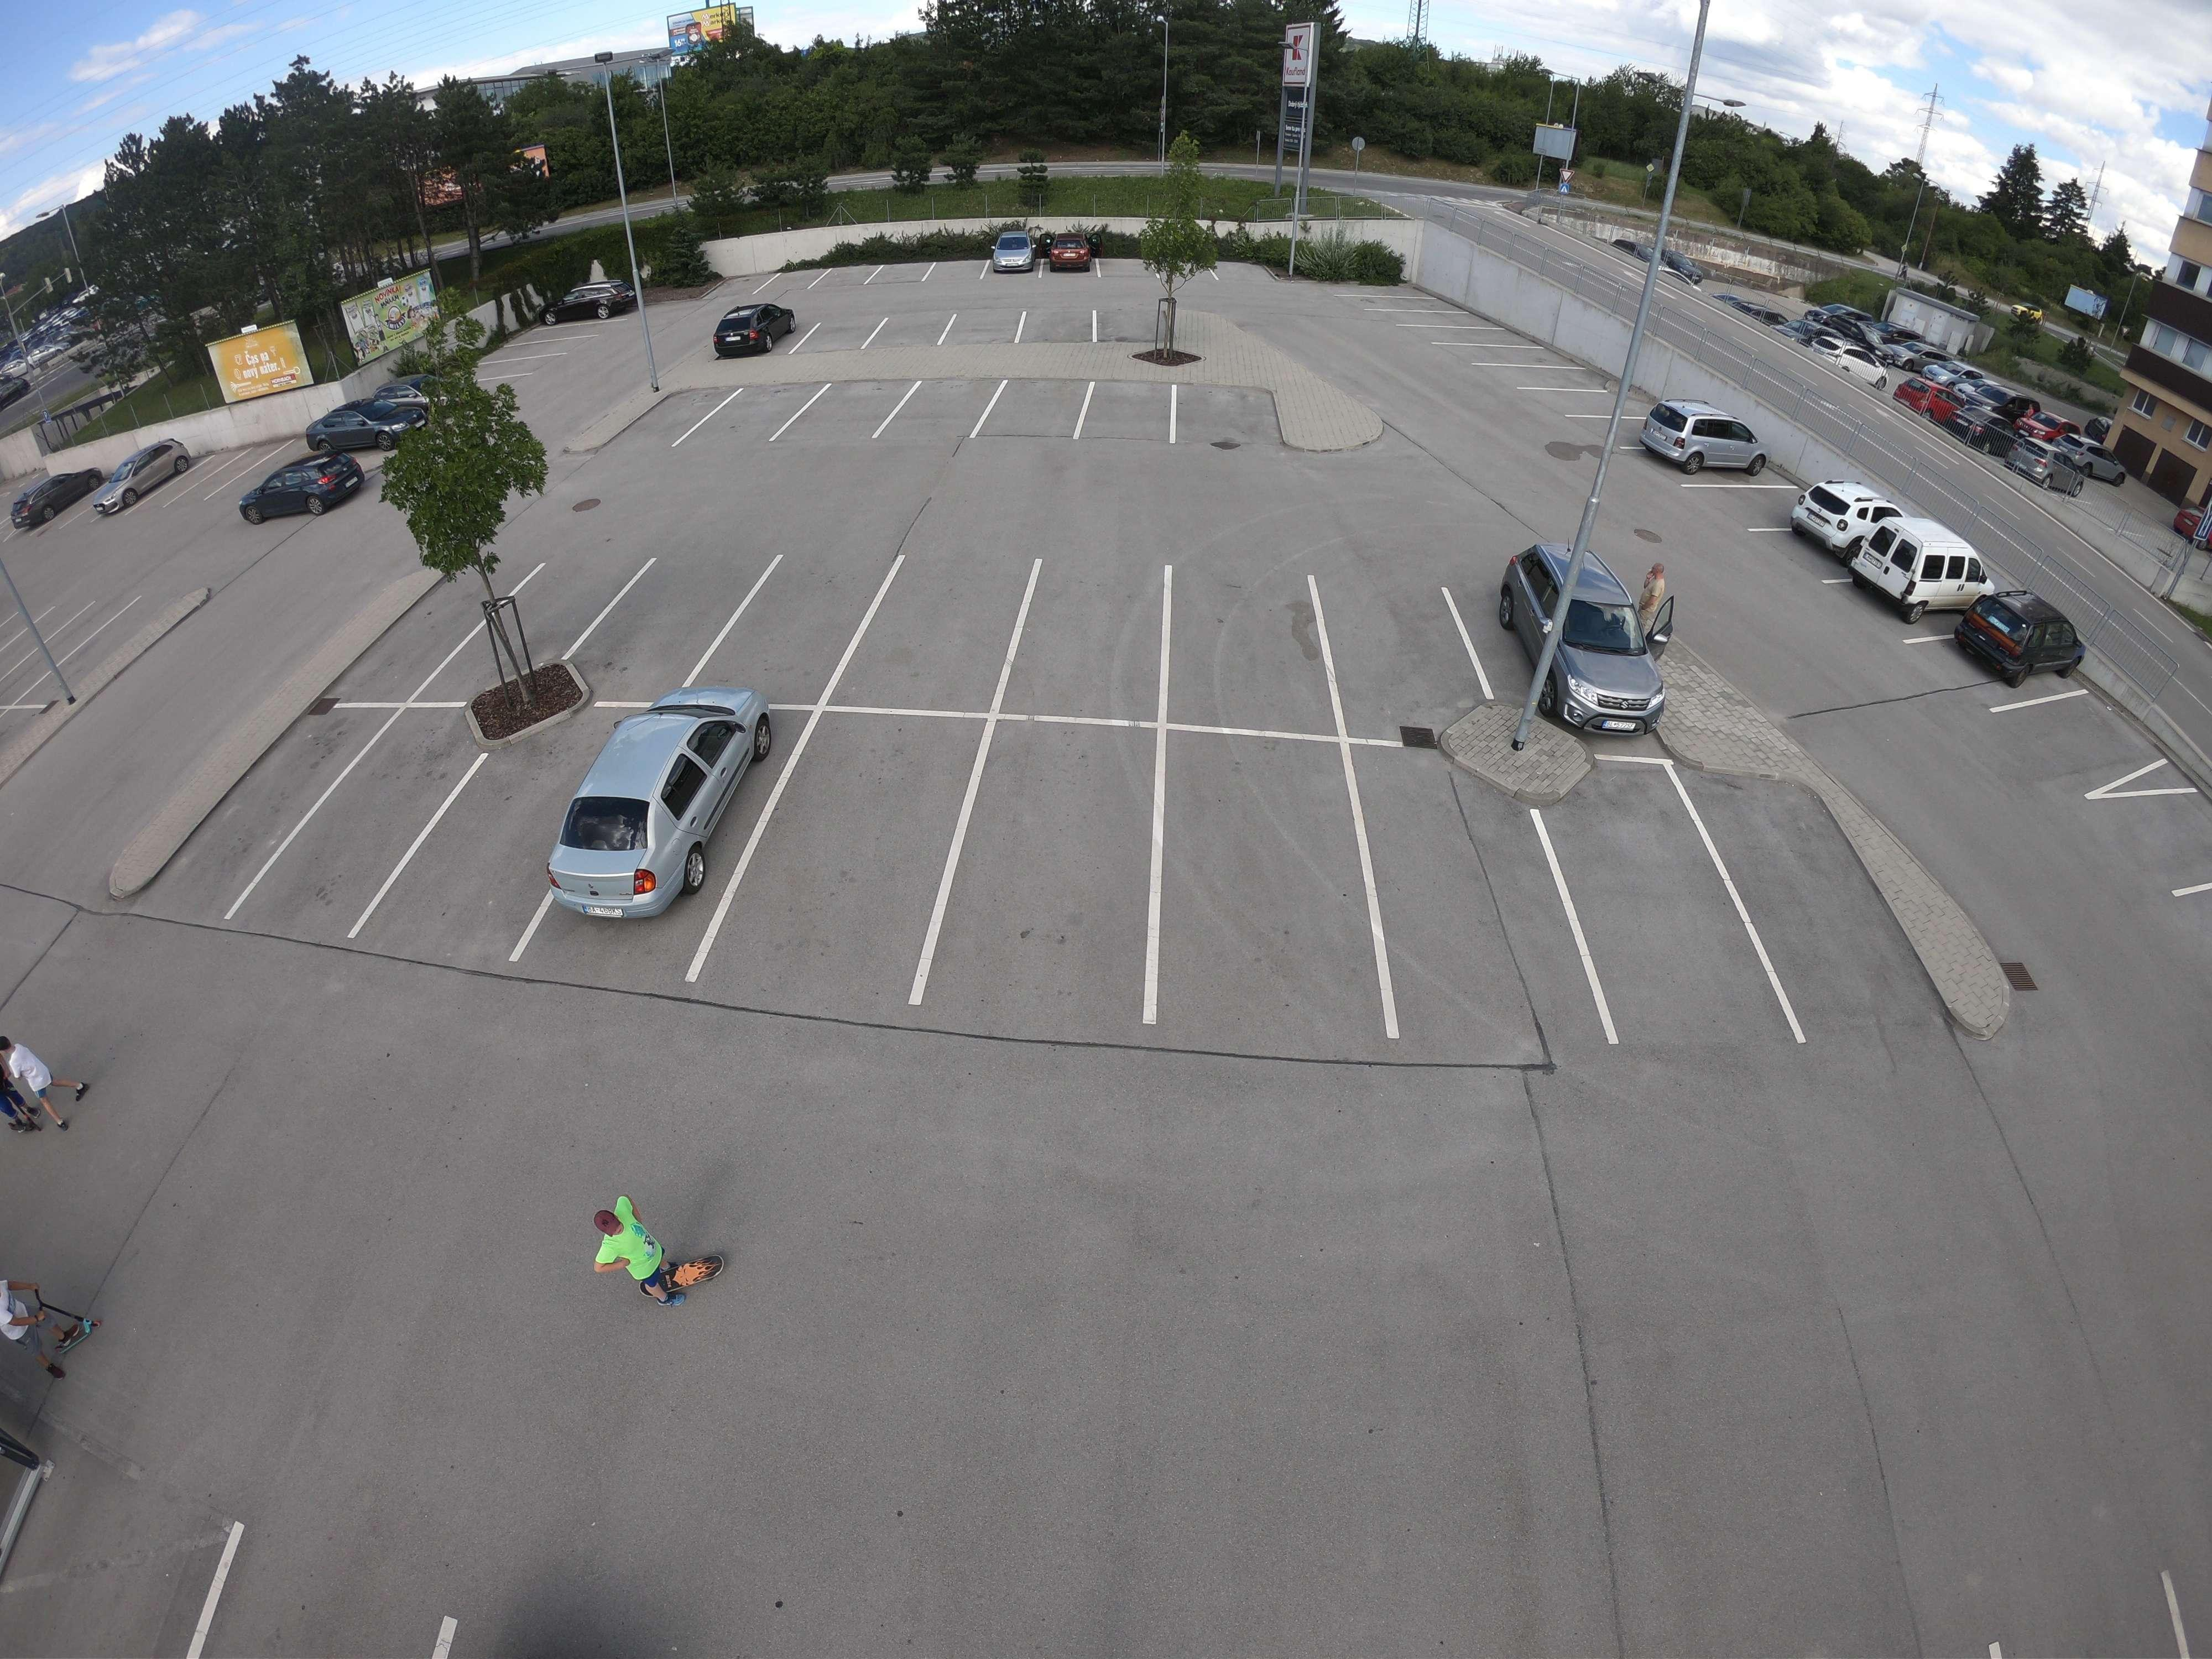empty: (536, 683, 766, 924), (1480, 535, 1681, 746), (1939, 592, 2085, 697), (21, 434, 192, 523), (1848, 519, 1989, 617), (242, 443, 371, 530), (1637, 399, 1763, 481), (1782, 474, 1895, 556), (308, 389, 427, 460), (712, 296, 801, 364), (991, 228, 1045, 277), (1042, 232, 1094, 274)
occupied: (1170, 777, 1353, 969), (975, 756, 1146, 957), (772, 753, 948, 920), (1392, 828, 1541, 990), (14, 1546, 176, 1654), (1590, 840, 1717, 965), (1176, 603, 1317, 694), (1750, 840, 1878, 939), (460, 777, 566, 887), (1022, 598, 1158, 680), (880, 587, 1010, 667), (1336, 612, 1460, 695), (225, 758, 324, 857), (387, 572, 479, 659), (336, 767, 434, 843), (737, 598, 850, 657), (500, 579, 587, 652), (2141, 788, 2212, 870), (2027, 711, 2118, 775), (613, 592, 714, 645), (1188, 387, 1268, 439), (1543, 371, 1613, 425), (1723, 477, 1797, 525), (1087, 394, 1163, 437), (1007, 390, 1078, 430), (817, 394, 890, 432), (911, 392, 977, 429), (820, 260, 876, 301), (1487, 340, 1538, 385), (732, 397, 796, 432), (871, 251, 928, 288), (1029, 317, 1089, 350), (881, 321, 941, 352), (953, 321, 1010, 352), (655, 403, 709, 436), (810, 319, 869, 349), (928, 251, 984, 282), (1446, 326, 1479, 352)
